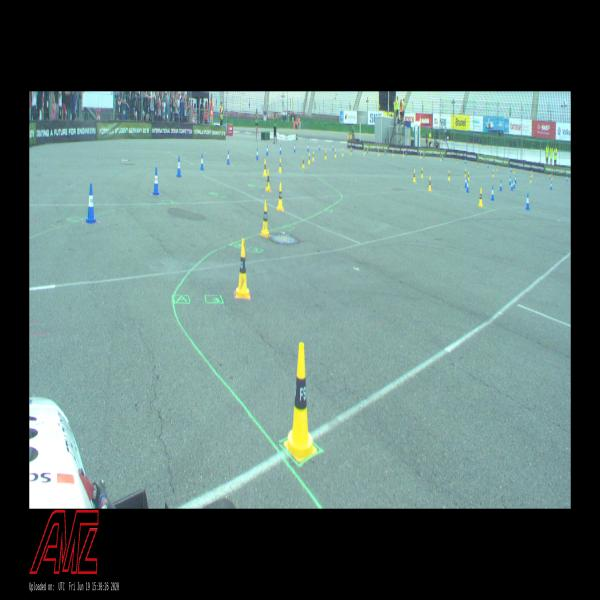blue_cone: (86, 183, 96, 223), (153, 167, 159, 194), (177, 156, 181, 177), (526, 193, 530, 209), (200, 154, 204, 170), (491, 186, 494, 200), (227, 151, 230, 165), (256, 148, 259, 160), (466, 180, 469, 192), (499, 180, 502, 190), (279, 145, 282, 154), (318, 142, 321, 151), (511, 180, 513, 190), (266, 146, 268, 156), (465, 177, 467, 187), (307, 143, 309, 152), (509, 176, 511, 185), (294, 143, 296, 152), (513, 179, 515, 188), (514, 176, 516, 184), (550, 182, 552, 189), (405, 150, 407, 157), (332, 144, 334, 150), (549, 173, 551, 179), (351, 146, 353, 152), (510, 166, 512, 172), (566, 176, 568, 181), (384, 150, 386, 154), (367, 148, 368, 154), (465, 158, 466, 164), (442, 155, 443, 160), (424, 153, 424, 158), (488, 162, 488, 168)
yellow_cone: (284, 343, 317, 460), (236, 239, 250, 297), (261, 200, 269, 235), (277, 184, 283, 210), (478, 188, 483, 206), (266, 169, 270, 191), (263, 160, 267, 177), (428, 176, 432, 191), (279, 158, 282, 173), (302, 156, 305, 169), (413, 170, 416, 182), (312, 150, 315, 160), (334, 149, 337, 158), (324, 150, 327, 159), (349, 148, 352, 156), (308, 153, 310, 164), (421, 167, 423, 178), (341, 149, 344, 156), (448, 170, 450, 180), (468, 172, 470, 181), (363, 148, 365, 155), (530, 176, 532, 183), (492, 169, 494, 176), (392, 149, 394, 156), (456, 157, 458, 164), (496, 164, 498, 171), (513, 168, 515, 174), (465, 170, 466, 178), (378, 149, 379, 156), (403, 150, 404, 157), (551, 174, 552, 180), (420, 152, 421, 158), (440, 155, 441, 161), (477, 162, 478, 167)
